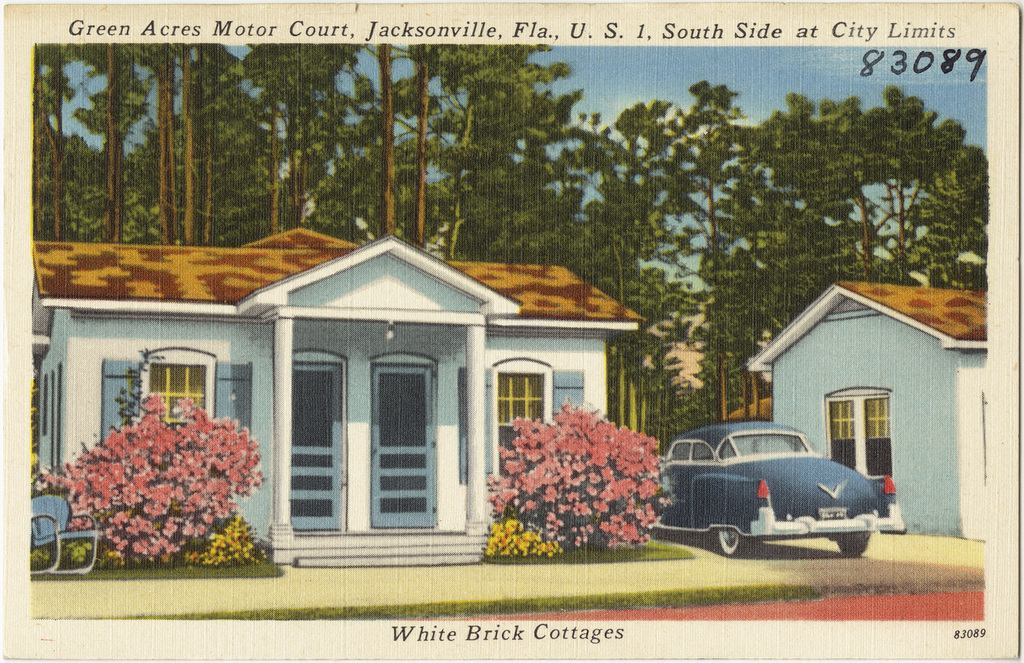Car: (658, 426, 890, 554)
